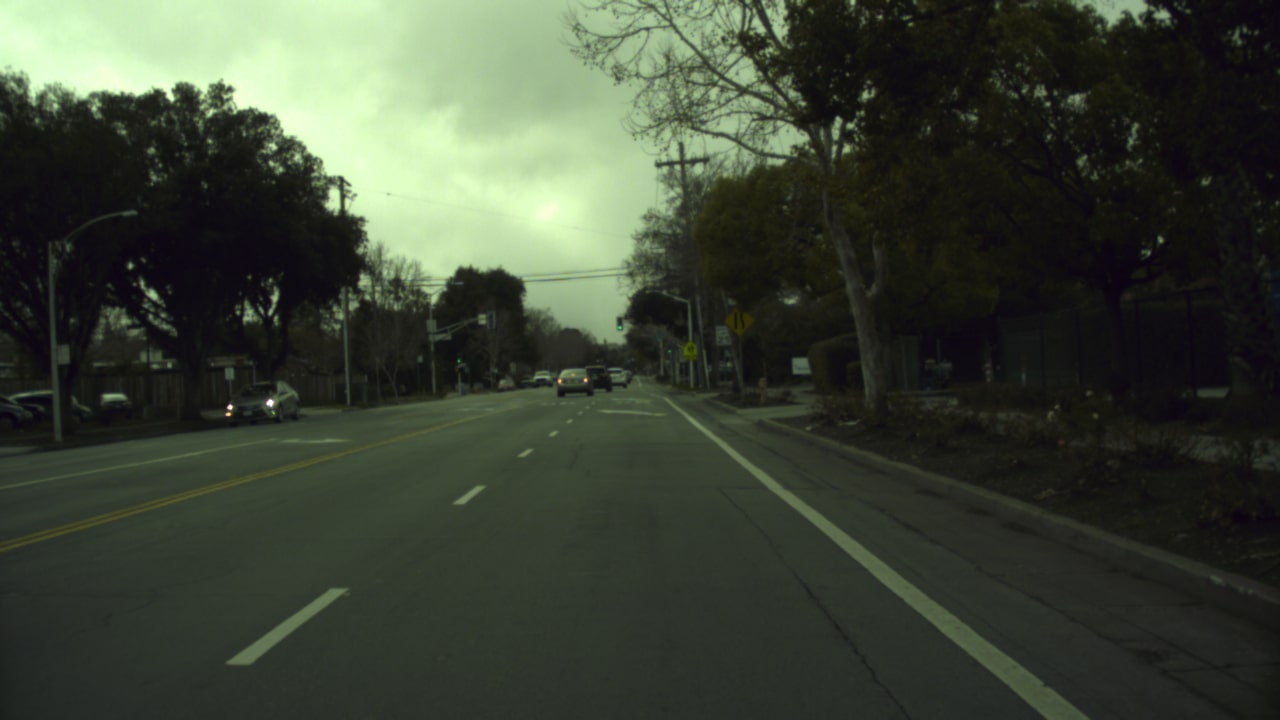signal: (615, 313, 624, 333)
